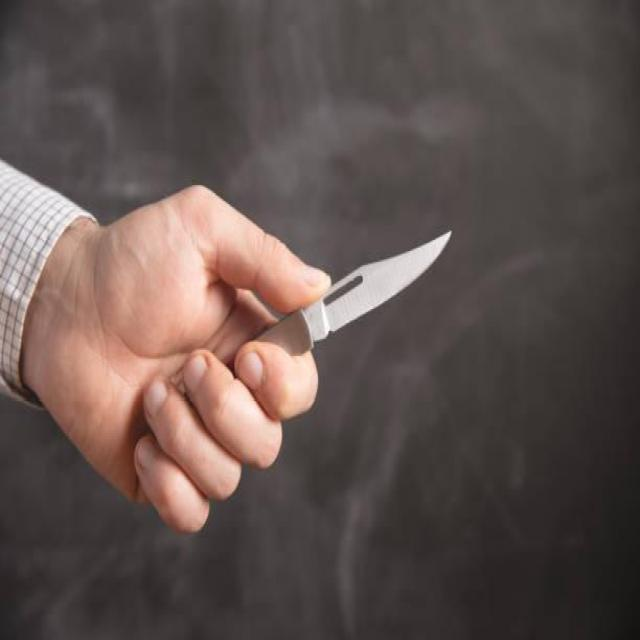faca: (92, 134, 459, 536)
